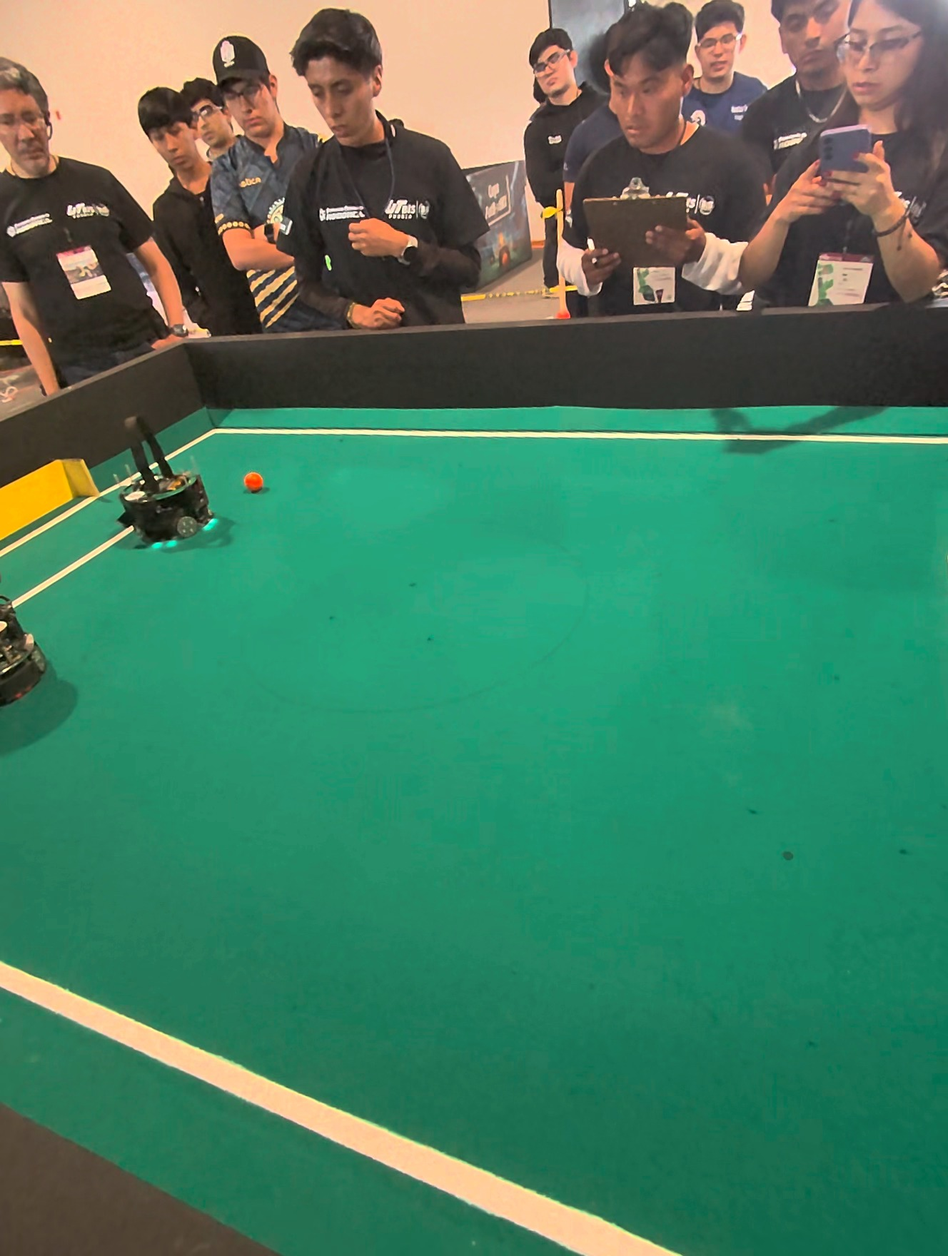Robot: (113, 409, 218, 562), (0, 572, 73, 745)
pelota: (233, 461, 276, 495)
